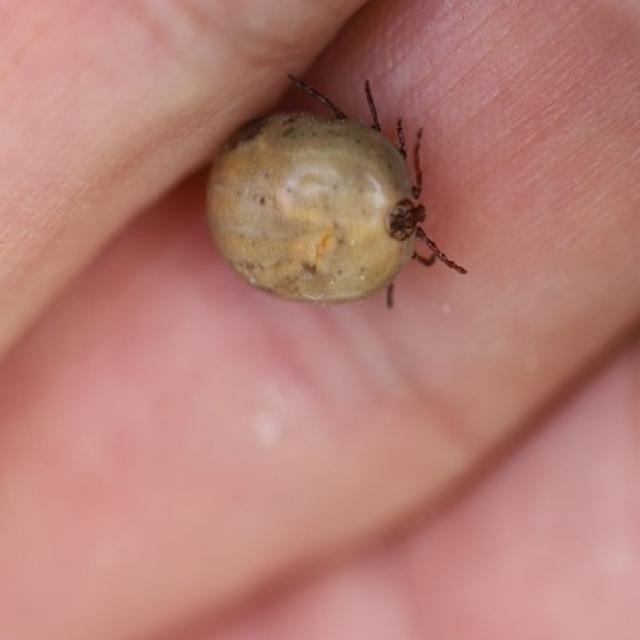Dermacentor Reticulatus-F-Fed: (206, 75, 469, 309)
